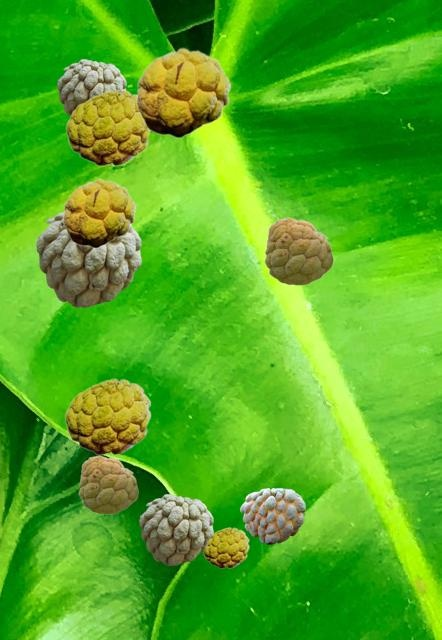atis: (36, 212, 140, 306), (135, 47, 230, 137), (64, 378, 150, 454), (65, 89, 150, 165), (139, 494, 212, 564), (62, 178, 135, 247), (264, 217, 332, 284), (57, 59, 125, 115), (240, 488, 304, 543), (78, 455, 137, 513), (203, 527, 248, 567)
